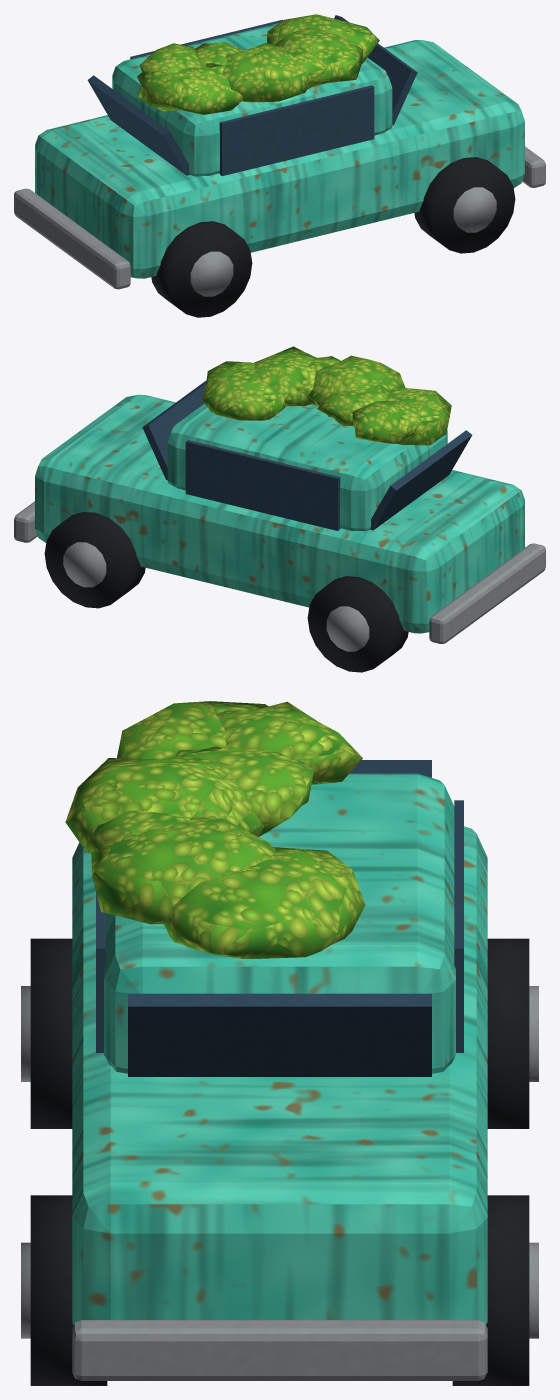
The model's file is car-wrecked.glb.
3 views of the same model, one above another, from view 1: azimuth 30°, elevation 25°; view 2: azimuth 150°, elevation 25°; view 3: azimuth 270°, elevation 25° (orthographic). The views are drawn at different scales.
Visible parts, largest first — view 1: car-wrecked; view 2: car-wrecked; view 3: car-wrecked.
Boxes of the visible parts, x1,y1,x2,y2 form: car-wrecked: (14, 14, 545, 317); car-wrecked: (14, 346, 545, 672); car-wrecked: (21, 701, 538, 1385).
Size of the model in its own units: 3.12 by 1.51 by 1.62.
5 materials, 5 textured.
